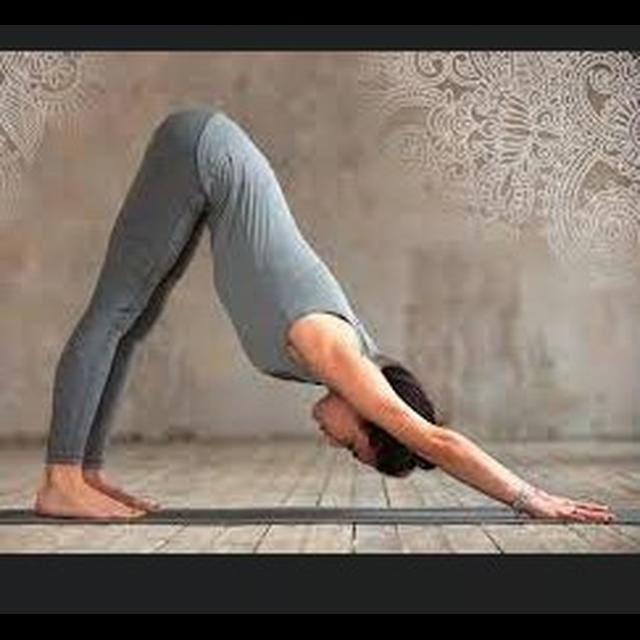Downward-Facing_Dog: (33, 103, 621, 529)
